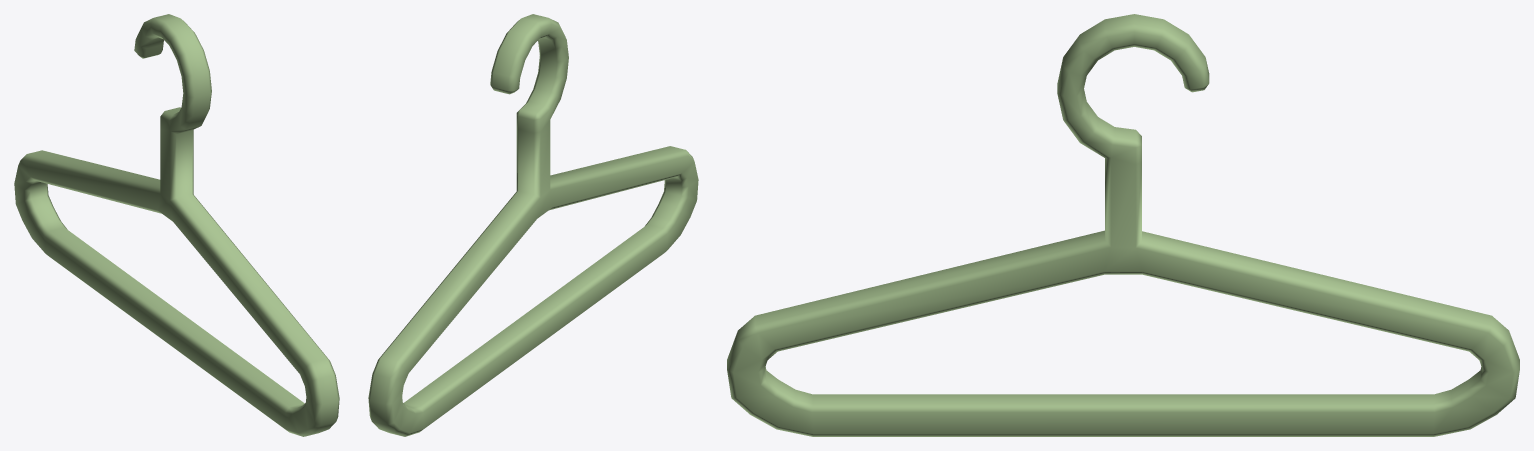
Rendered from Clothes_hanger_3.glb.
3 renders of one model, left to right at view 1: azimuth 30°, elevation 25°; view 2: azimuth 150°, elevation 25°; view 3: azimuth 270°, elevation 25°, orthographic. The views are drawn at different scales.
Visible parts, largest first — view 1: Clothes_hanger_3; view 2: Clothes_hanger_3; view 3: Clothes_hanger_3.
Boxes of the visible parts, x1,y1,x2,y2 form: Clothes_hanger_3: (14,14,339,436); Clothes_hanger_3: (368,14,698,436); Clothes_hanger_3: (727,14,1519,436).
Bounding box in the file's own units: 0.017 × 0.2179 × 0.3789.
1 material, 1 textured.
